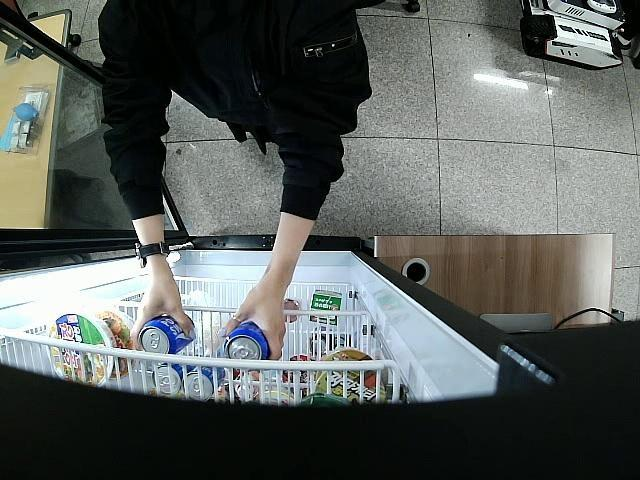13_pocariSweat: (138, 314, 195, 354), (224, 320, 270, 360)
